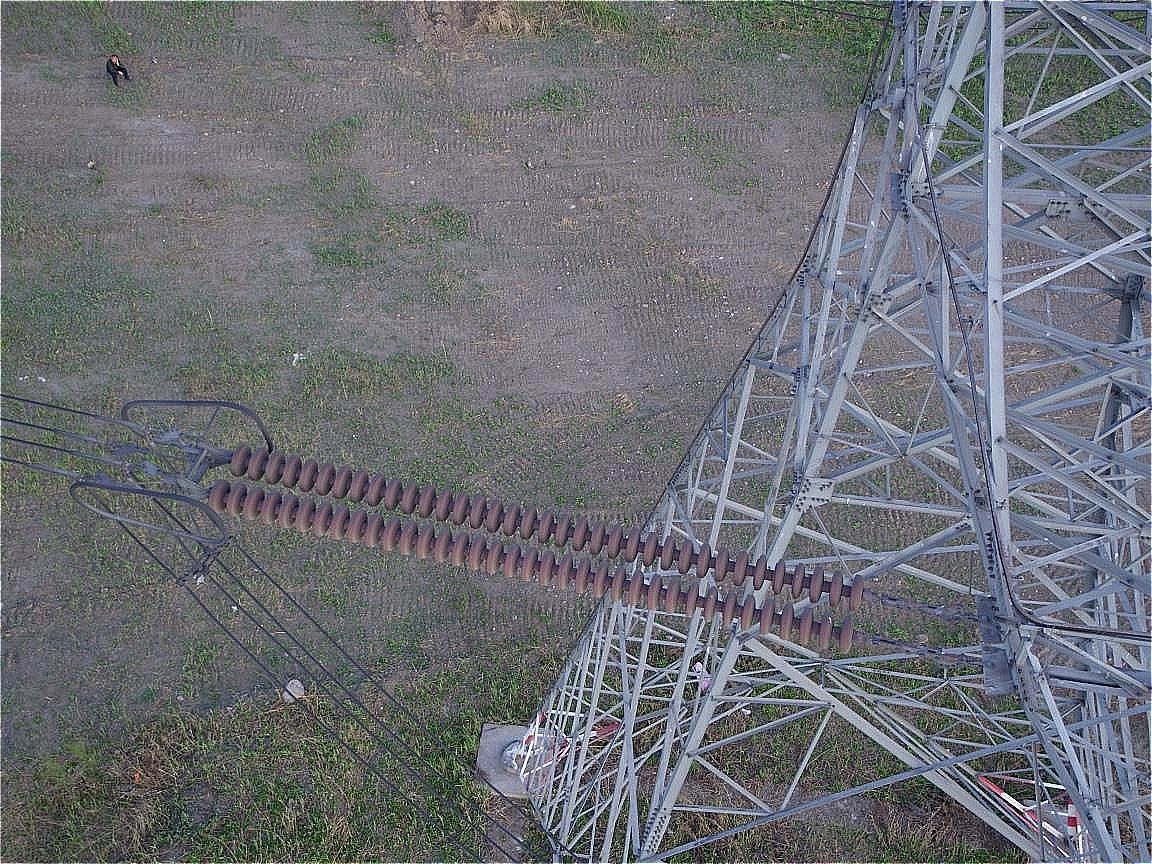insultor1: (180, 438, 897, 655)
